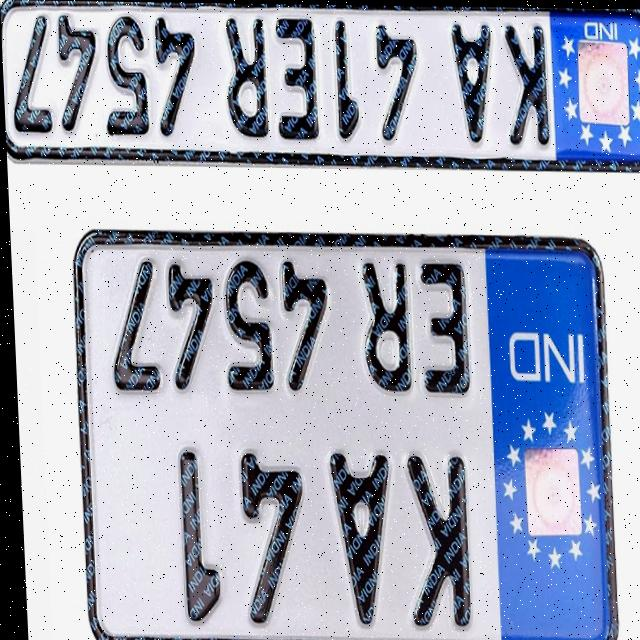plate: (67, 229, 616, 640), (0, 0, 640, 172)
